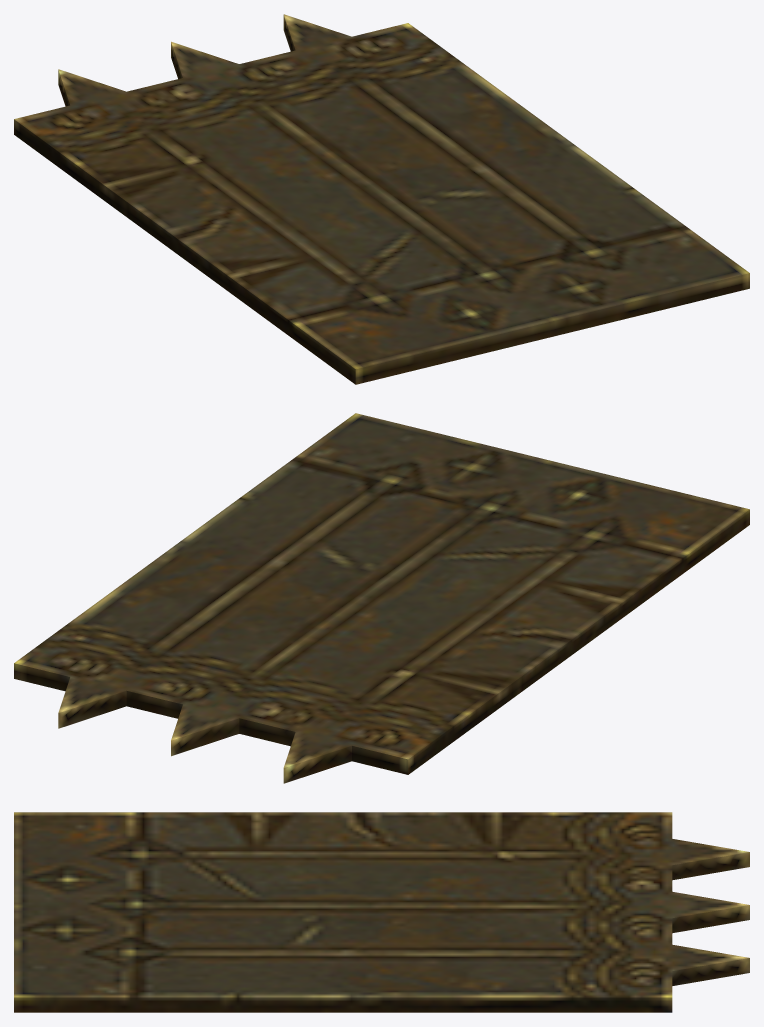
Rendered from Stage_ShaMo_TieMen.FBX.
3 renders of one model, top to bottom at view 1: azimuth 30°, elevation 25°; view 2: azimuth 150°, elevation 25°; view 3: azimuth 270°, elevation 25°, orthographic. The views are drawn at different scales.
Parts seen in each view (by area): view 1: Stage_ShaMo_TieMen; view 2: Stage_ShaMo_TieMen; view 3: Stage_ShaMo_TieMen.
Boxes of the visible parts, x1,y1,x2,y2 form: Stage_ShaMo_TieMen: (14, 14, 749, 384); Stage_ShaMo_TieMen: (14, 413, 749, 783); Stage_ShaMo_TieMen: (14, 812, 749, 1012).
Bounding box in the file's own units: 163 × 6.14 × 274.
